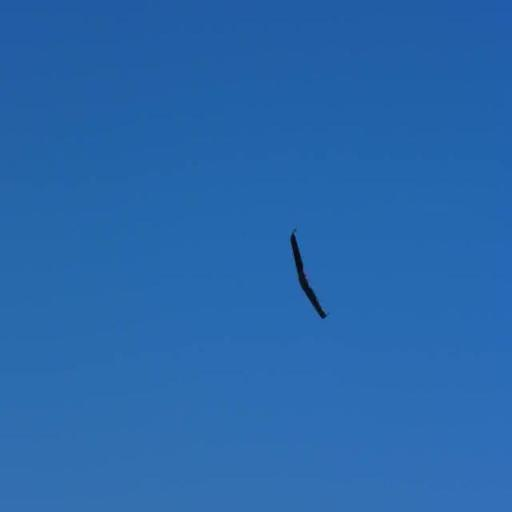uav: (286, 226, 328, 326)
